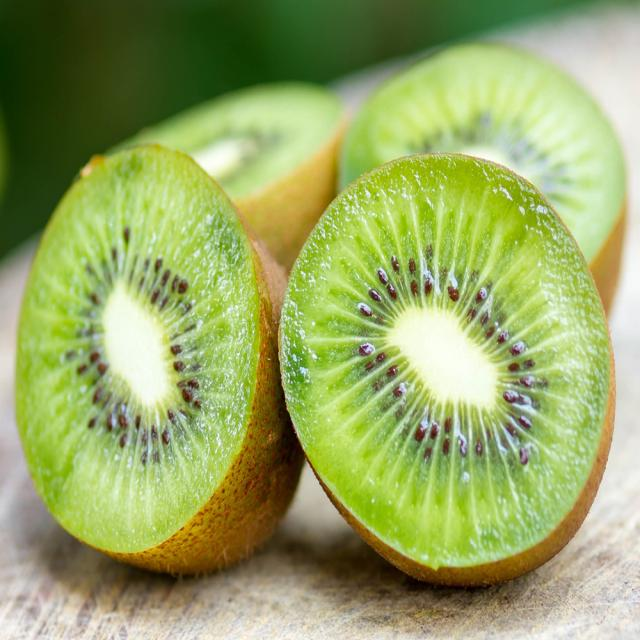kiwi: (277, 150, 615, 587), (16, 142, 312, 582), (336, 39, 629, 329), (108, 84, 343, 284)
